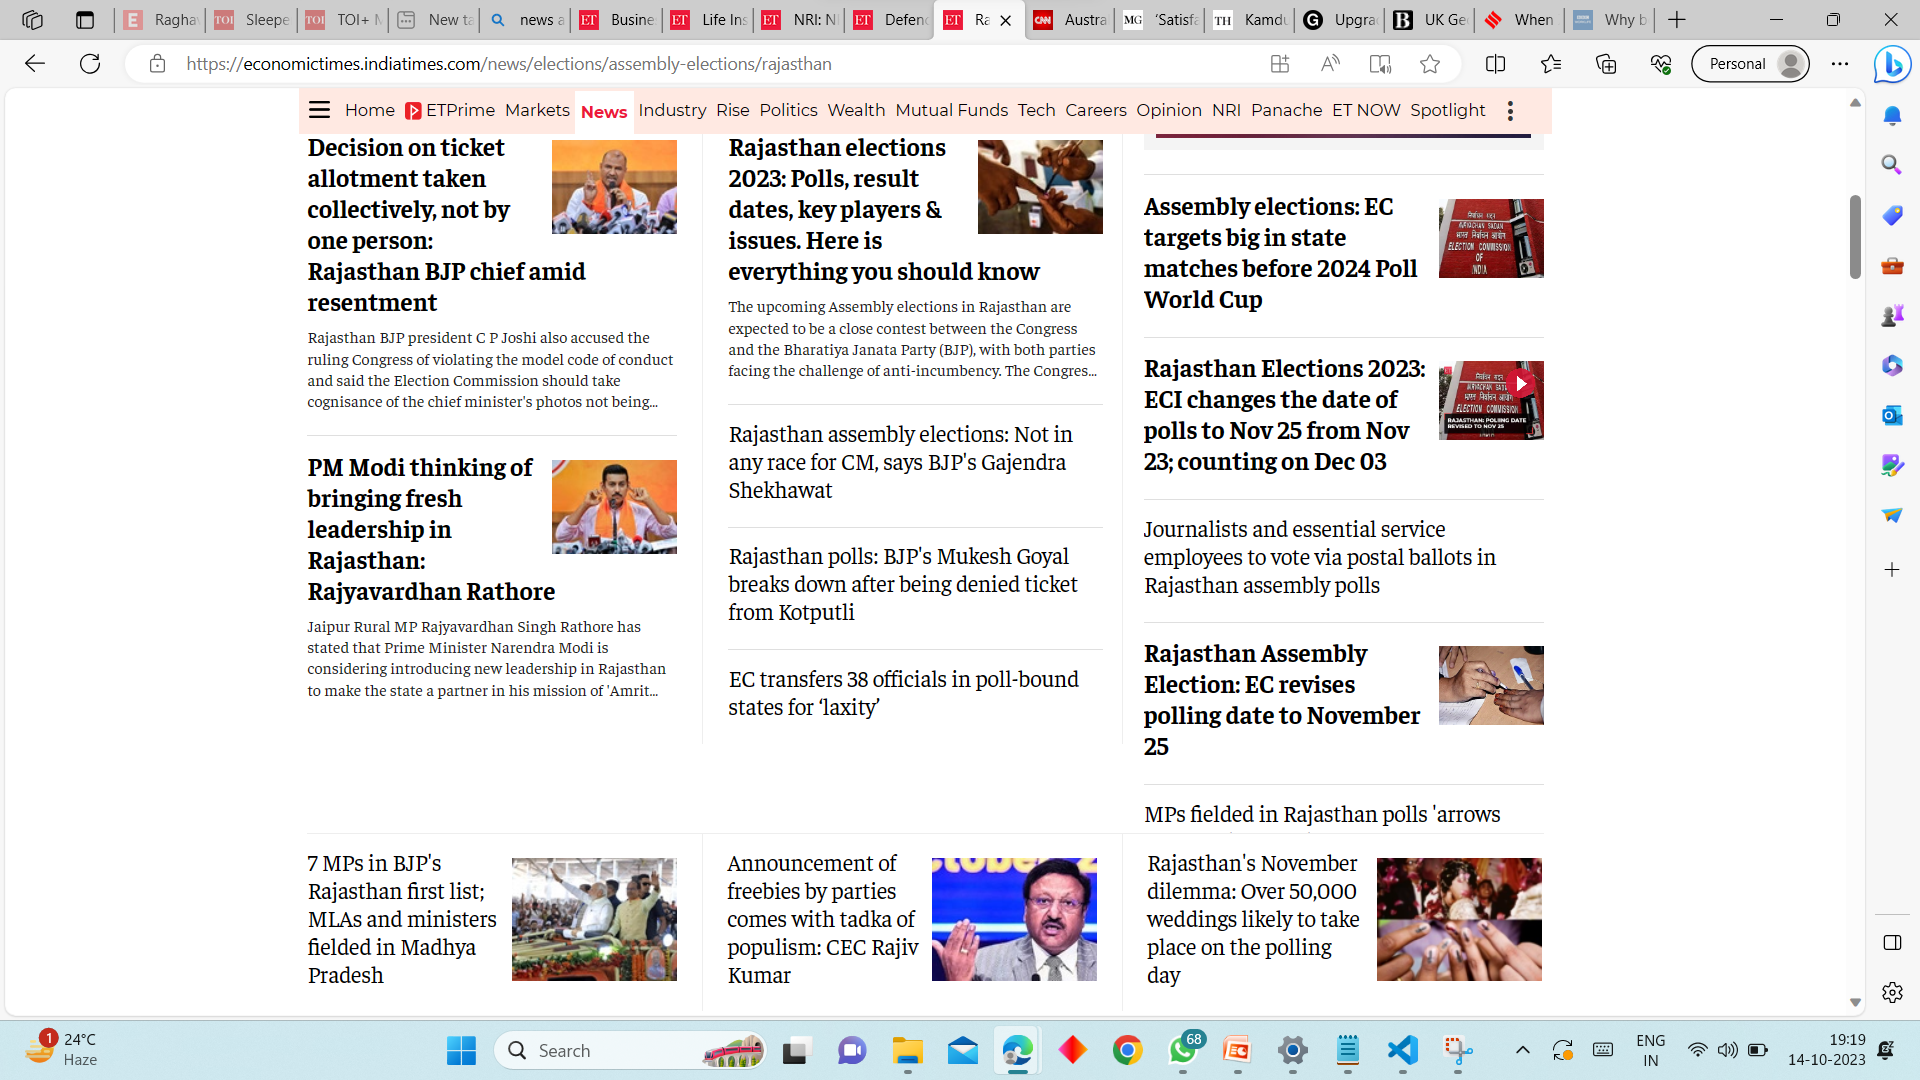Image: (932, 864, 1106, 986), (508, 858, 679, 977), (1379, 864, 1545, 980), (964, 138, 1112, 244), (555, 454, 695, 562), (553, 136, 678, 237), (1433, 637, 1556, 736), (1433, 199, 1552, 286), (1440, 357, 1539, 431)
Paragraph: (306, 136, 525, 324), (302, 620, 678, 729), (1150, 351, 1429, 485), (723, 539, 1096, 637), (309, 452, 553, 595), (729, 298, 1096, 392), (1131, 510, 1507, 601), (1145, 199, 1429, 318), (1125, 642, 1429, 752), (298, 841, 501, 1002), (302, 334, 669, 422), (713, 841, 926, 993), (723, 418, 1098, 501), (1138, 852, 1366, 986), (724, 658, 1093, 736), (723, 136, 955, 257), (1141, 796, 1502, 825), (717, 257, 1054, 286), (530, 255, 601, 286)
